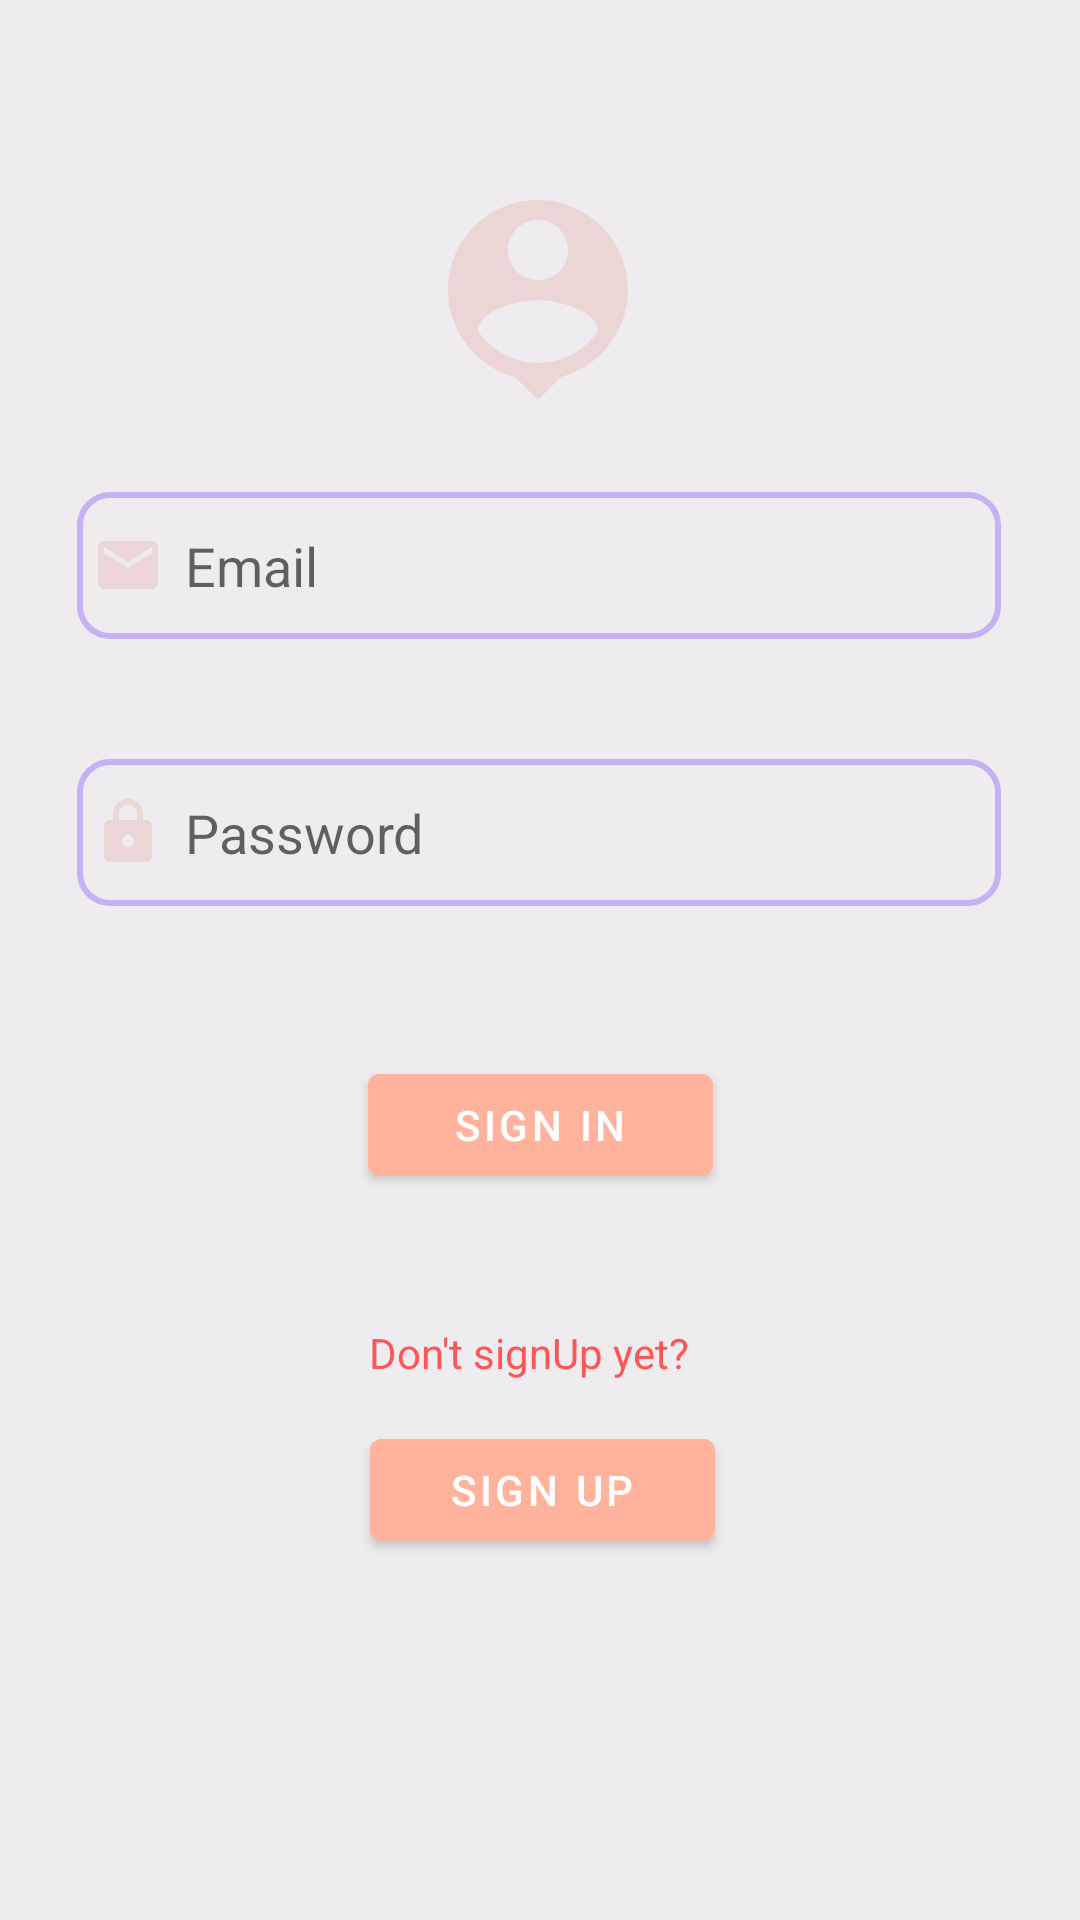

Icon click points for this 1080*1920 phone screenshot, format [x,y]:
person pin: [538,299]
